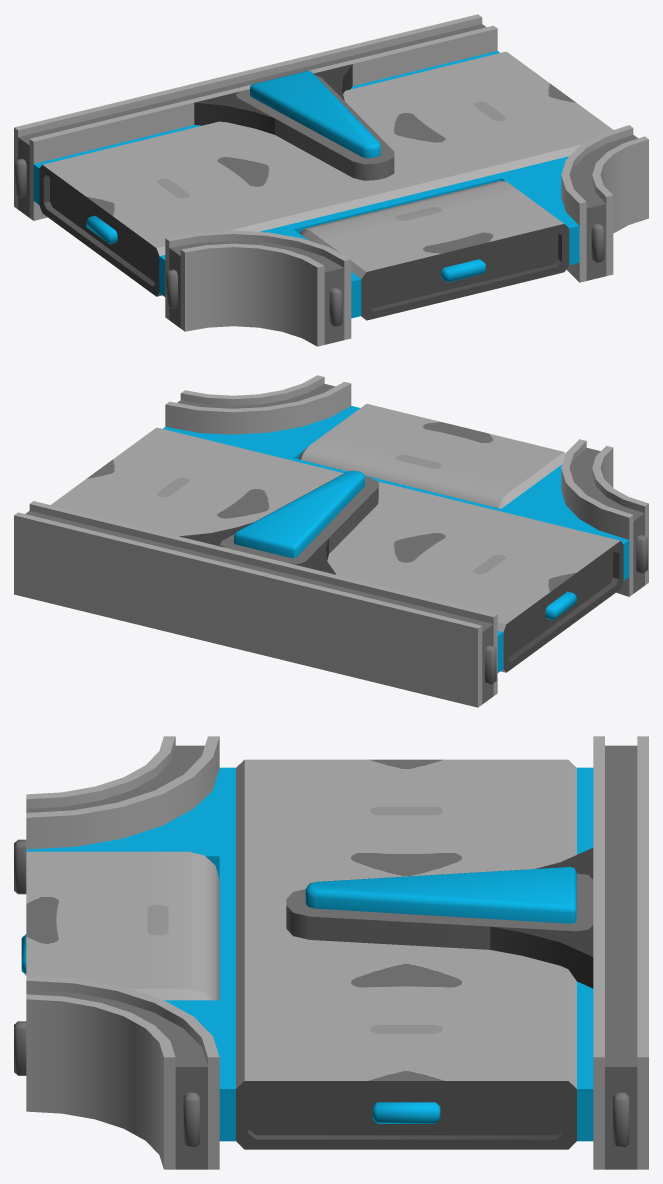
Rendered from Conveyor_Belt_2nd_2I1O.fbx.
3 renders of one model, top to bottom at view 1: azimuth 30°, elevation 25°; view 2: azimuth 150°, elevation 25°; view 3: azimuth 270°, elevation 25°, orthographic. The views are drawn at different scales.
Visible parts, largest first — view 1: Conveyor_Belt_2nd_2I1O; view 2: Conveyor_Belt_2nd_2I1O; view 3: Conveyor_Belt_2nd_2I1O.
Part boxes in pixels (<box>): Conveyor_Belt_2nd_2I1O: <box>14,14,648,346</box>; Conveyor_Belt_2nd_2I1O: <box>14,375,648,707</box>; Conveyor_Belt_2nd_2I1O: <box>14,736,648,1169</box>.
Bounding box in the file's own units: 207 × 37.38 × 167.
